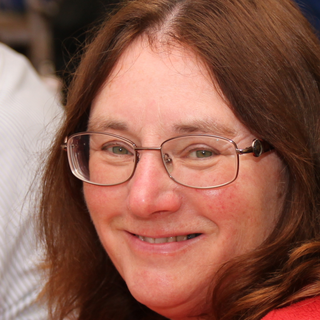eye: (91, 134, 139, 164), (172, 142, 224, 166)
